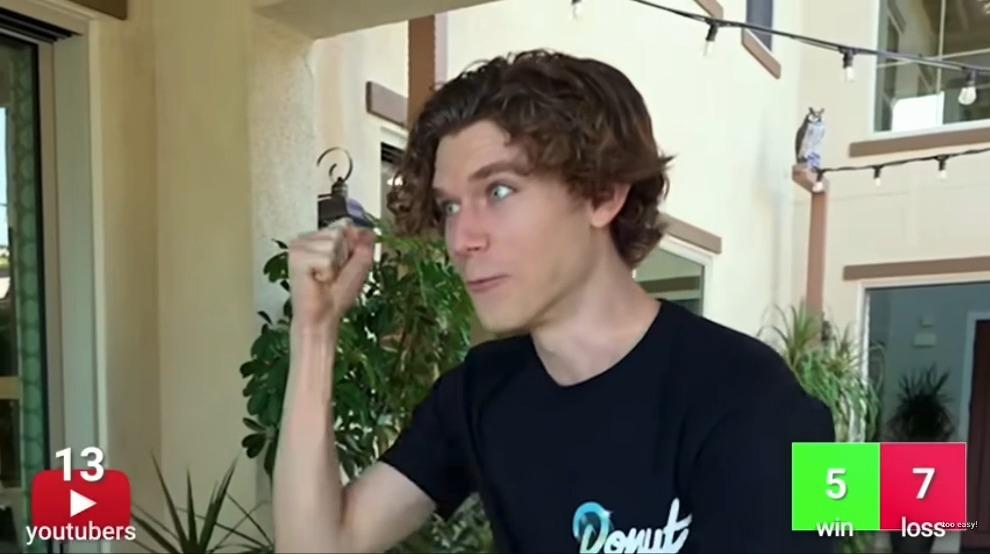Rock: (289, 219, 373, 321)
